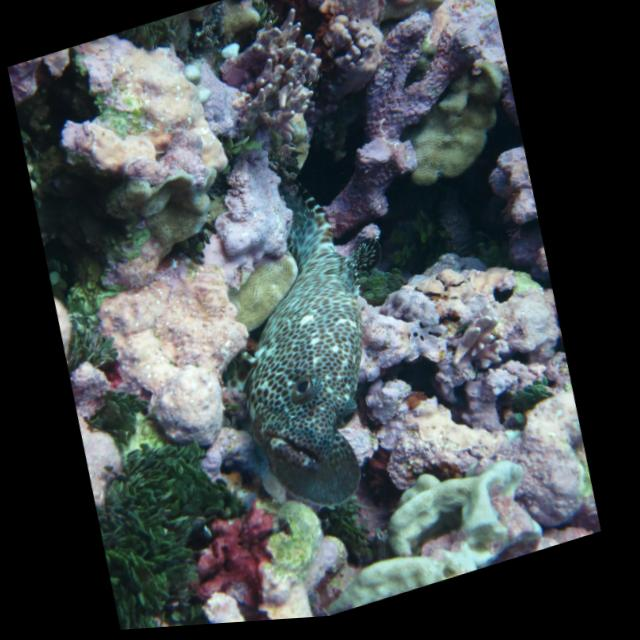Groupers: (178, 131, 447, 534)
